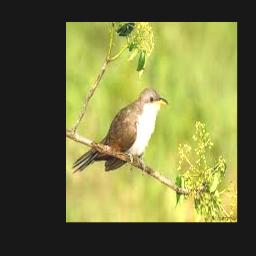Cuckoo: (72, 87, 168, 171)
